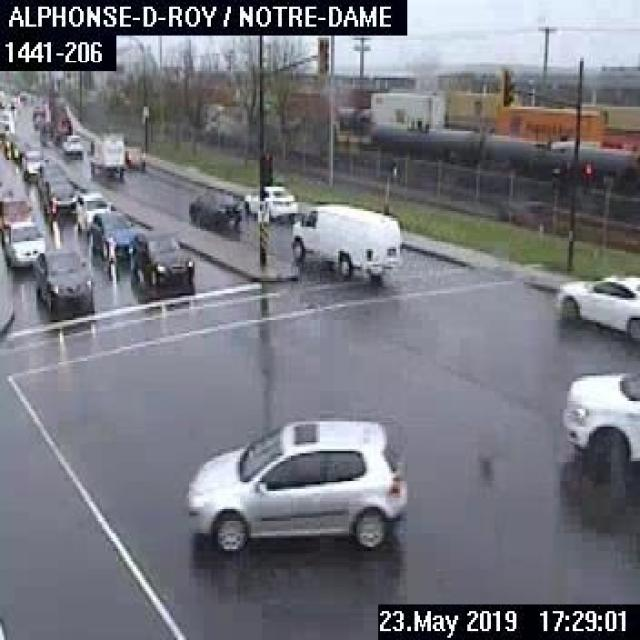vehicle: (184, 416, 411, 554), (292, 200, 403, 282), (560, 369, 638, 484), (551, 271, 638, 340), (31, 247, 94, 319), (127, 227, 196, 291), (185, 187, 260, 231), (0, 193, 44, 267), (85, 207, 144, 262), (242, 181, 296, 223), (85, 133, 124, 180), (72, 188, 110, 230), (44, 180, 78, 215), (19, 146, 48, 179), (37, 162, 65, 192), (122, 142, 146, 170), (59, 130, 83, 156), (30, 104, 44, 116)
